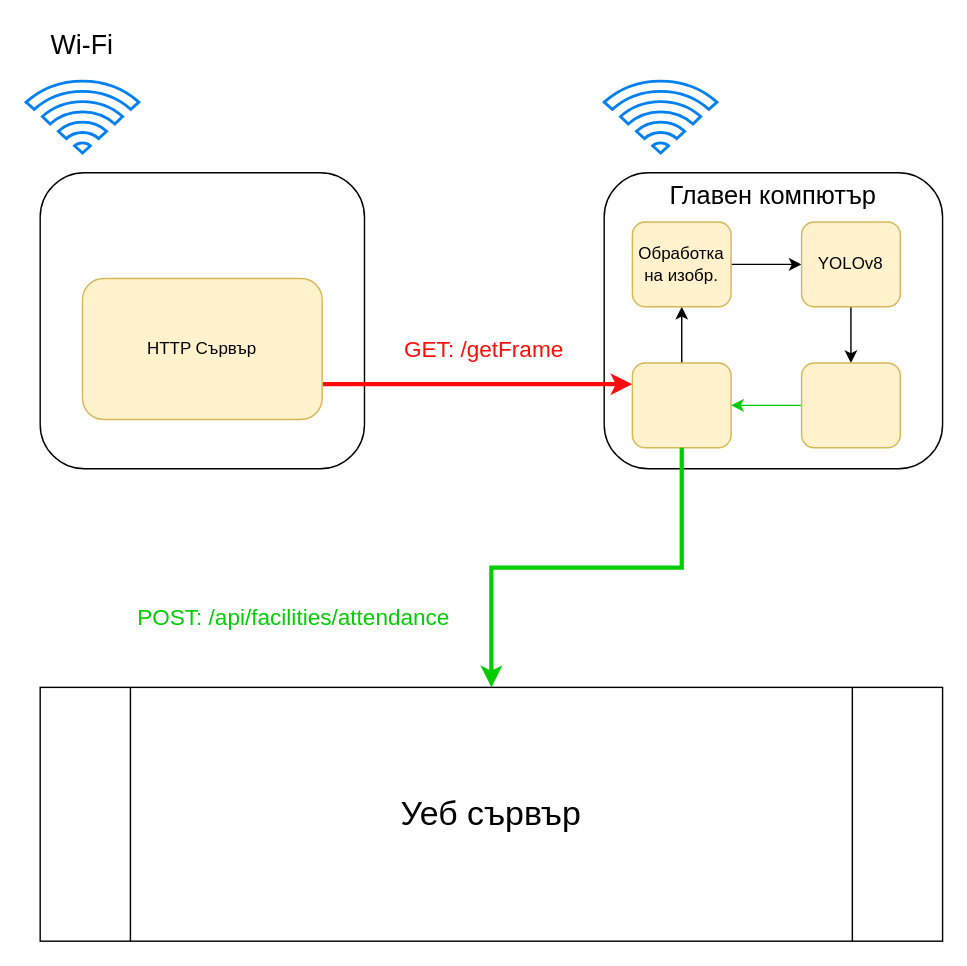
Some shapes in this 967 by 966 pixel diagram are drawn without their labels. Here are the shapes that lost their labels. From the top down, the box of each, then its label:
(39, 171, 364, 469): Камера модул
(631, 362, 731, 448): HTTP Клиент
(800, 362, 900, 448): Броене на засечени обекти
